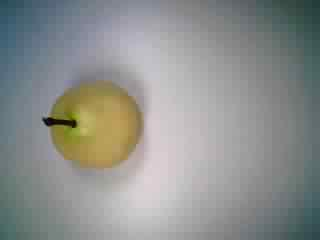pear: (38, 70, 146, 175)
